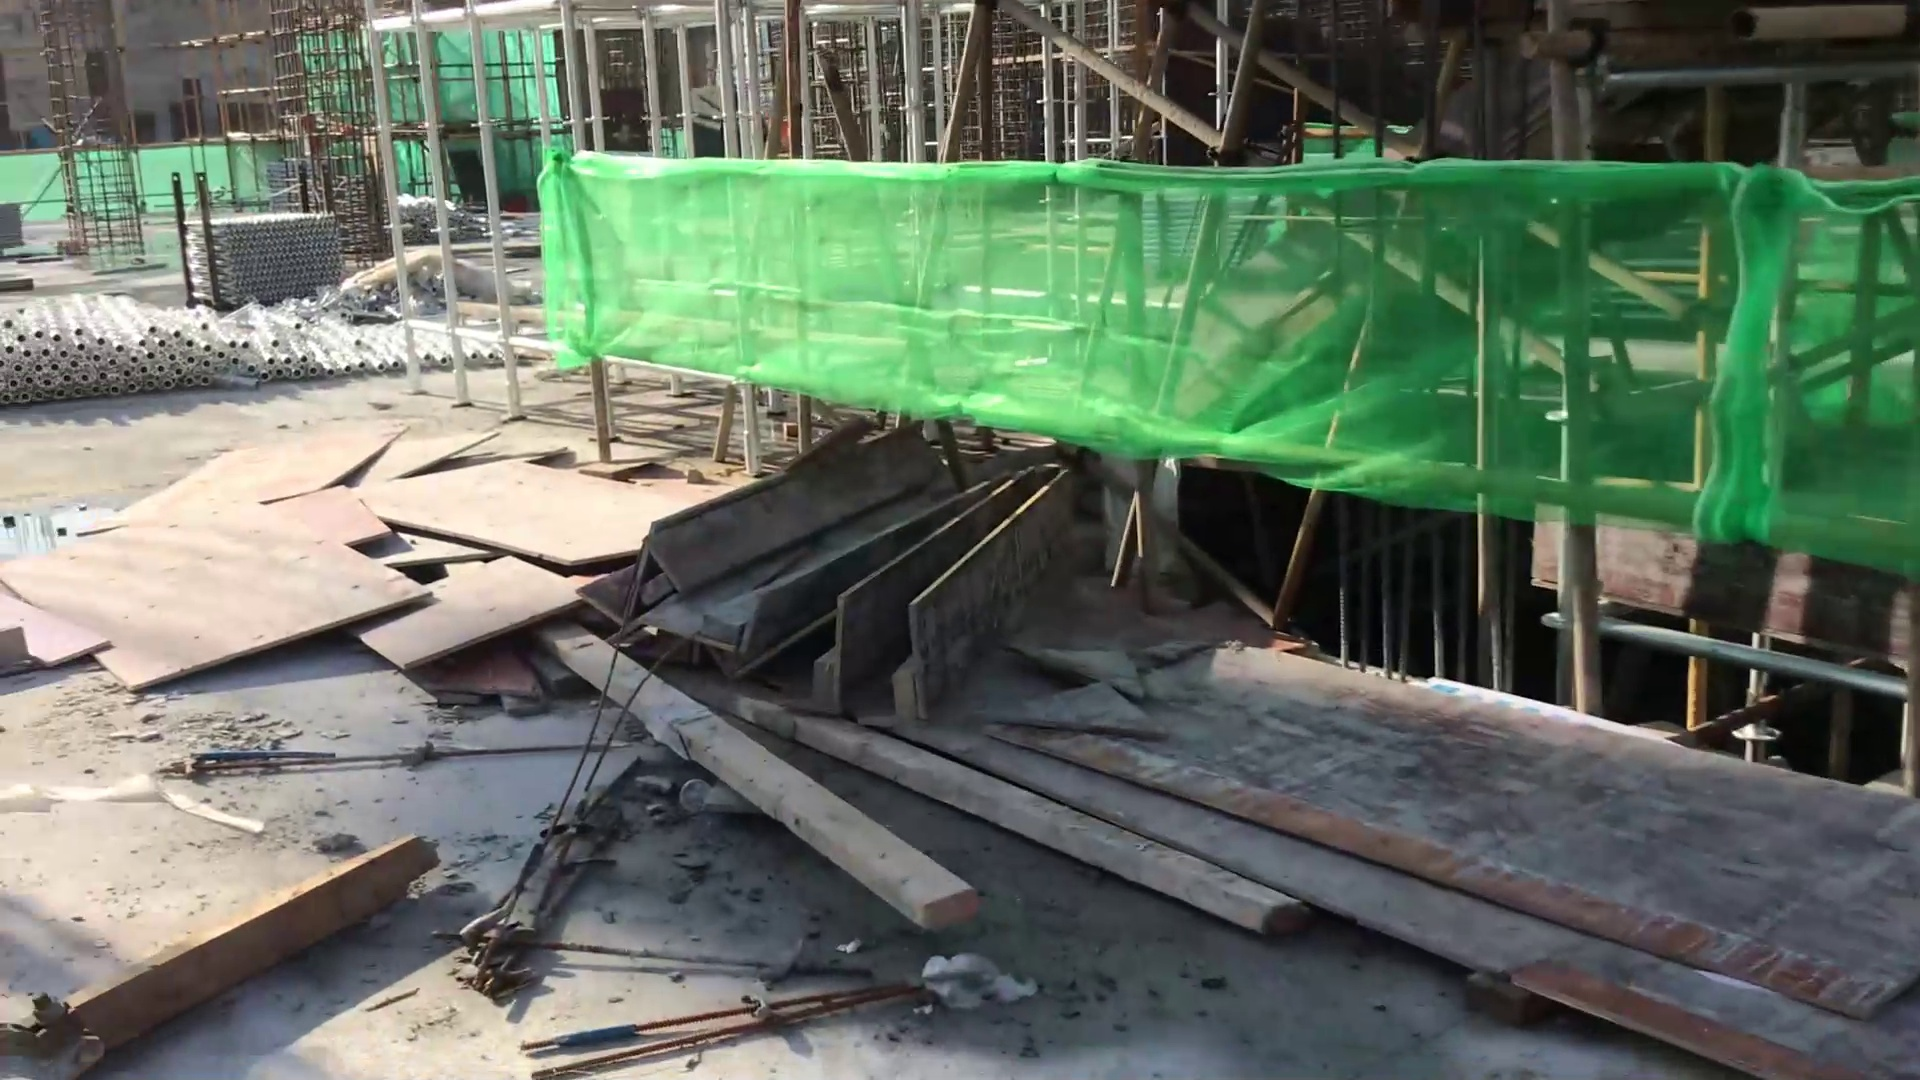scaffold: (179, 195, 355, 316)
